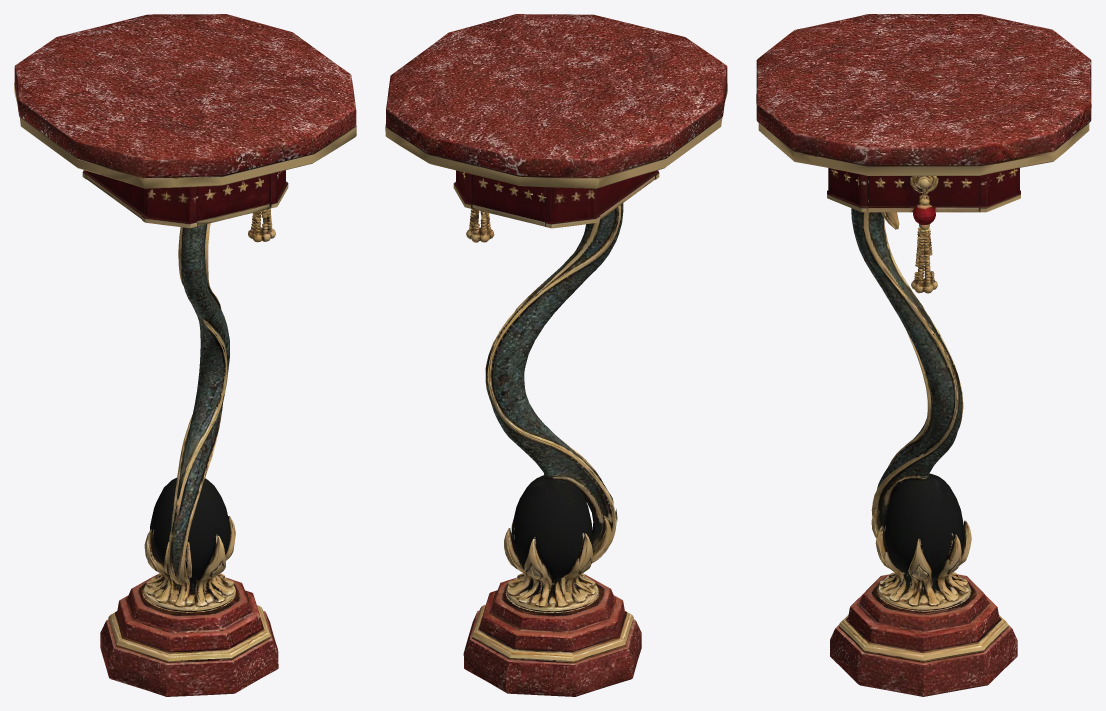
Rendered from NX-01_bedside_table_game.glb.
3 views of the same model, side by side, from view 1: azimuth 30°, elevation 25°; view 2: azimuth 150°, elevation 25°; view 3: azimuth 270°, elevation 25° (orthographic).
Visible parts, largest first — view 1: NX-01_bedside_table; view 2: NX-01_bedside_table; view 3: NX-01_bedside_table.
Part boxes in pixels (x1=…): NX-01_bedside_table: x1=14, y1=14, x2=356, y2=696; NX-01_bedside_table: x1=385, y1=14, x2=727, y2=696; NX-01_bedside_table: x1=756, y1=14, x2=1091, y2=696.
Bounding box in the file's own units: 0.3084 × 0.62 × 0.3237.
Materials: 1 (1 with a texture image).
